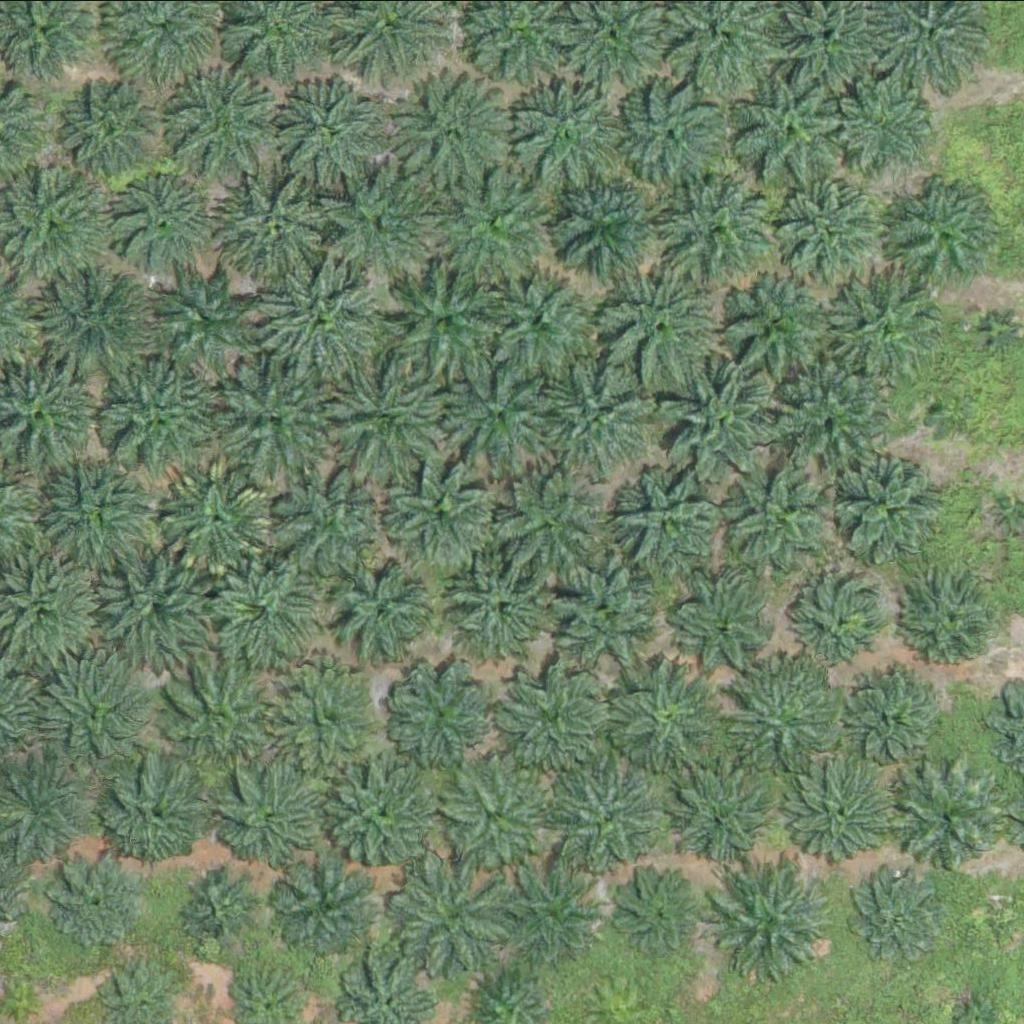Kelapa_Sawit: (212, 166, 338, 291), (323, 158, 449, 283), (258, 262, 384, 387), (28, 258, 154, 383), (93, 354, 219, 479), (213, 356, 339, 481), (328, 366, 454, 491), (387, 856, 513, 981), (707, 863, 833, 988), (721, 453, 847, 578), (436, 350, 562, 475), (530, 352, 656, 477), (665, 357, 791, 482), (780, 357, 906, 482), (375, 260, 501, 385), (474, 256, 600, 381), (595, 260, 721, 385), (708, 270, 834, 395), (430, 168, 556, 293), (512, 74, 638, 199), (389, 71, 515, 196), (732, 69, 858, 194), (722, 651, 847, 776), (37, 454, 151, 567), (769, 180, 883, 293), (662, 168, 776, 281), (831, 67, 945, 180), (163, 659, 276, 772), (269, 665, 382, 778), (330, 753, 443, 866), (214, 763, 327, 876), (98, 753, 211, 866), (380, 655, 493, 768), (450, 547, 563, 660), (890, 764, 1003, 877), (495, 660, 608, 773), (608, 660, 721, 773), (546, 562, 659, 675), (836, 448, 949, 561), (888, 176, 1001, 289), (550, 165, 663, 278), (497, 469, 611, 581), (273, 80, 386, 192), (167, 64, 280, 176), (2, 167, 115, 279), (159, 461, 272, 573), (275, 462, 388, 574), (328, 555, 441, 667), (204, 555, 317, 667), (102, 548, 215, 660), (37, 657, 150, 769), (384, 454, 497, 566), (446, 756, 559, 868), (497, 855, 610, 967), (553, 760, 666, 872), (786, 758, 899, 870), (610, 467, 723, 579), (836, 270, 949, 382), (620, 76, 733, 188), (61, 76, 162, 176), (111, 171, 212, 271), (48, 848, 149, 948), (279, 856, 380, 956), (846, 867, 947, 967), (674, 764, 775, 864), (846, 666, 947, 766), (674, 576, 775, 676), (791, 574, 892, 674), (904, 576, 1005, 676), (152, 269, 252, 369), (611, 868, 699, 955), (183, 869, 258, 944), (920, 388, 970, 438), (981, 893, 1018, 931)
